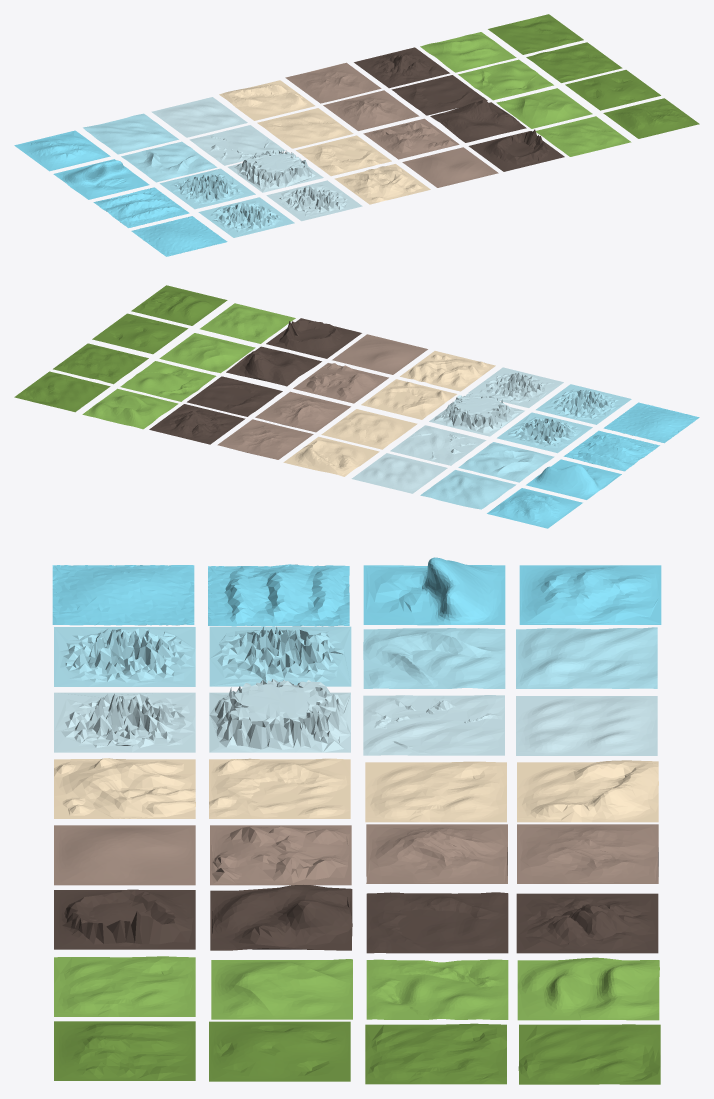
The model's file is planes.fbx.
The picture shows the model from 3 angles, top to bottom: view 1: azimuth 30°, elevation 25°; view 2: azimuth 150°, elevation 25°; view 3: azimuth 270°, elevation 25°; orthographic projection. The views are drawn at different scales.
Visible parts, largest first — view 1: ice_plane_6, brown_plane_6, brown_plane_5, watter_plane_3, desert_plane_4, desert_plane_1, watter_plane_4, ice_plane_4, watter_plane_1, green_plane_7, green_plane_3, ice_plane_5 (+20 smaller); view 2: ice_plane_6, brown_plane_5, watter_plane_3, brown_plane_2, green_plane_3, green_plane_8, watter_plane_1, ice_plane_1, ice_plane_2, green_plane_5, green_plane_6, watter_plane_4 (+20 smaller); view 3: ice_plane_6, brown_plane_6, watter_plane_3, green_plane_4, desert_plane_4, brown_plane_7, brown_plane_8, desert_plane_3, green_plane_7, ice_plane_3, green_plane_8, ice_plane_5 (+20 smaller).
Part boxes in pixels (<box>): ice_plane_6: <box>228,150,323,192</box>; brown_plane_6: <box>430,100,526,142</box>; brown_plane_5: <box>468,129,564,171</box>; watter_plane_3: <box>53,159,149,199</box>; desert_plane_4: <box>219,80,314,120</box>; desert_plane_1: <box>334,164,430,204</box>; watter_plane_4: <box>14,130,110,171</box>; ice_plane_4: <box>83,113,178,154</box>; watter_plane_1: <box>131,216,227,256</box>; green_plane_7: <box>526,42,622,82</box>; green_plane_3: <box>458,59,553,100</box>; ice_plane_5: <box>266,180,362,221</box>; ice_plane_6: <box>429,393,524,436</box>; brown_plane_5: <box>266,318,361,358</box>; watter_plane_3: <box>526,459,621,499</box>; brown_plane_2: <box>293,363,388,403</box>; green_plane_3: <box>120,361,216,401</box>; green_plane_8: <box>14,371,110,412</box>; watter_plane_1: <box>603,402,699,443</box>; ice_plane_1: <box>536,384,631,424</box>; ice_plane_2: <box>497,412,592,453</box>; green_plane_5: <box>131,285,227,325</box>; green_plane_6: <box>92,313,188,354</box>; watter_plane_4: <box>487,488,582,528</box>; ice_plane_6: <box>209,679,350,752</box>; brown_plane_6: <box>210,885,352,950</box>; watter_plane_3: <box>363,557,505,625</box>; green_plane_4: <box>517,957,659,1020</box>; desert_plane_4: <box>517,760,658,822</box>; brown_plane_7: <box>366,892,508,953</box>; brown_plane_8: <box>516,893,658,953</box>; desert_plane_3: <box>365,761,506,822</box>; green_plane_7: <box>365,1023,506,1084</box>; ice_plane_3: <box>363,628,505,688</box>; green_plane_8: <box>518,1024,660,1084</box>; ice_plane_5: <box>54,692,195,752</box>.
Bounding box in the file's own units: 7503 × 264 × 3702.
Materials: 1 (1 with a texture image).
